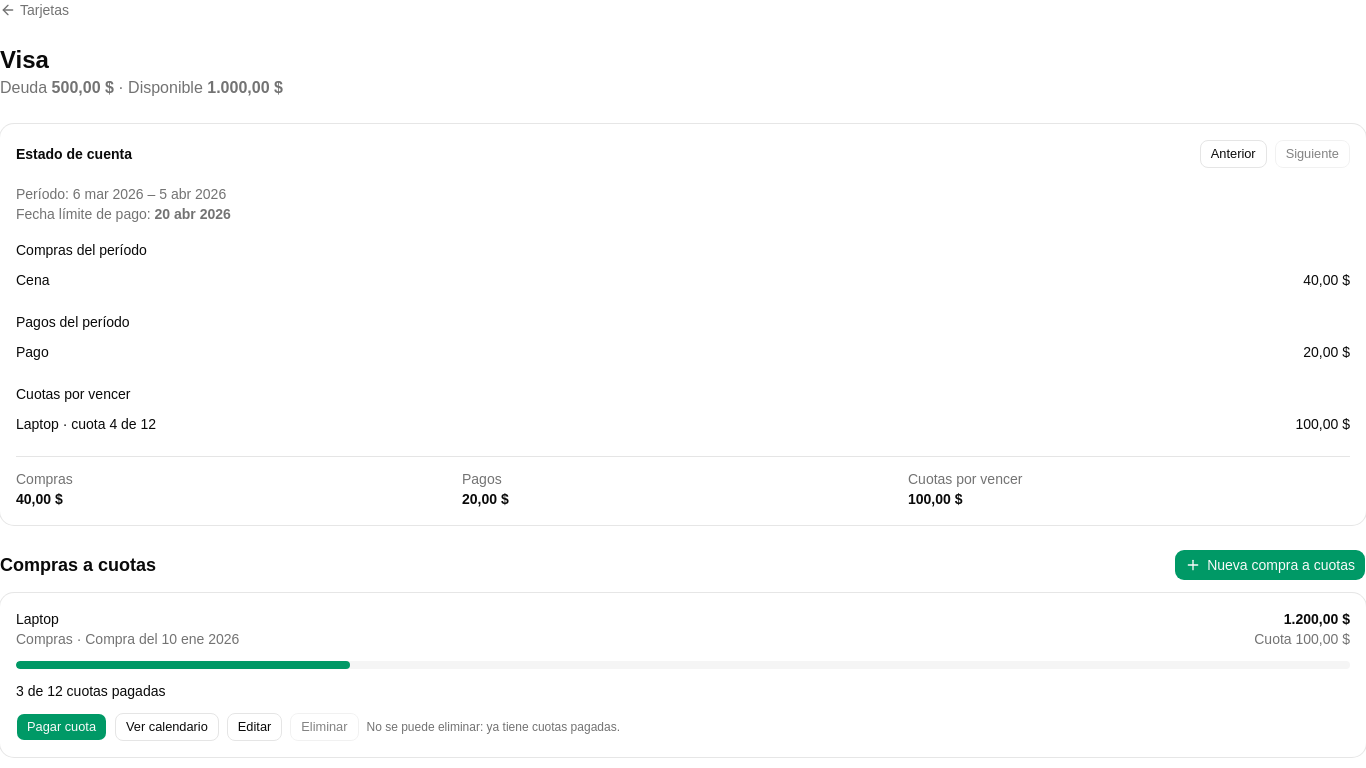
it: CardDetailPage › invalid amount or installments show errors, no request, and the preview does not break
Click the button "Nueva compra a cuotas" at (1270, 565), box [1174, 549, 1365, 581]
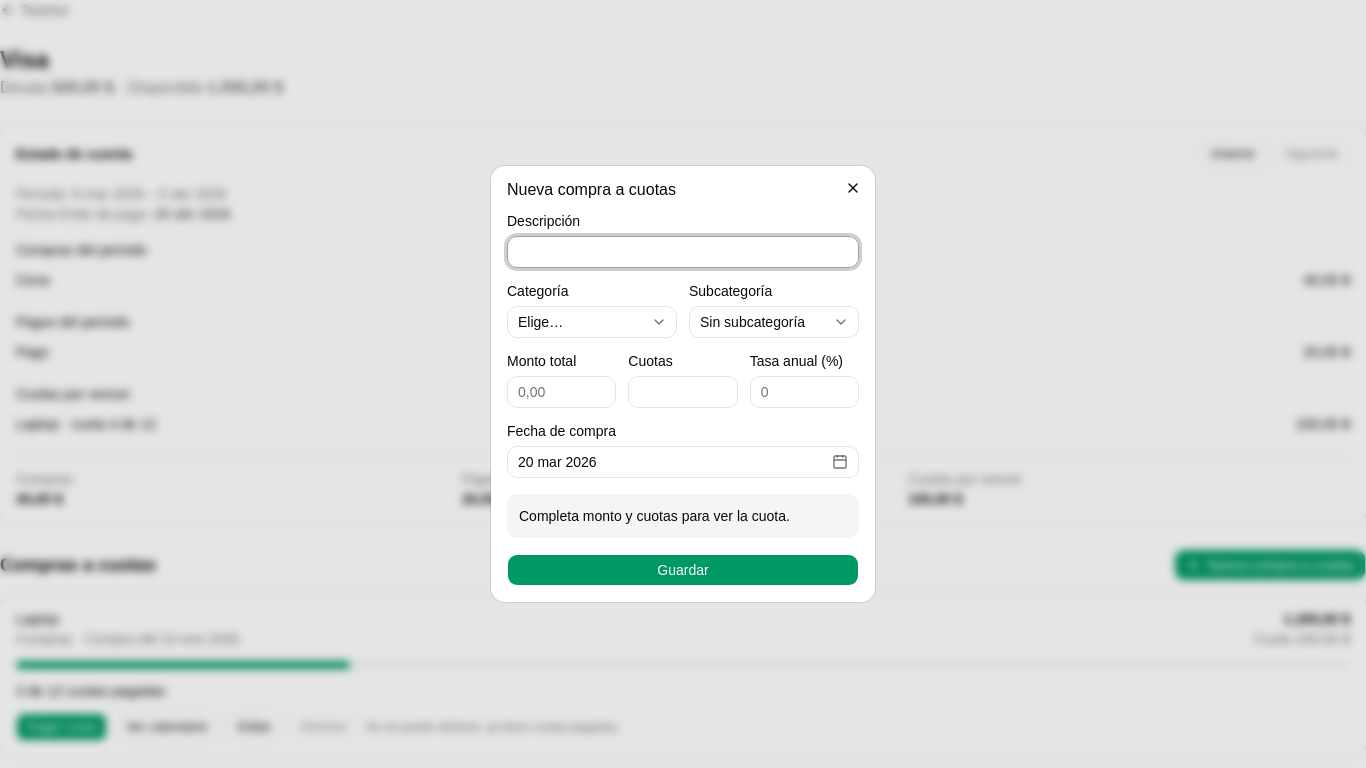
Type "X" into the field labelled "Descripción" at (683, 252), box [507, 236, 859, 268]
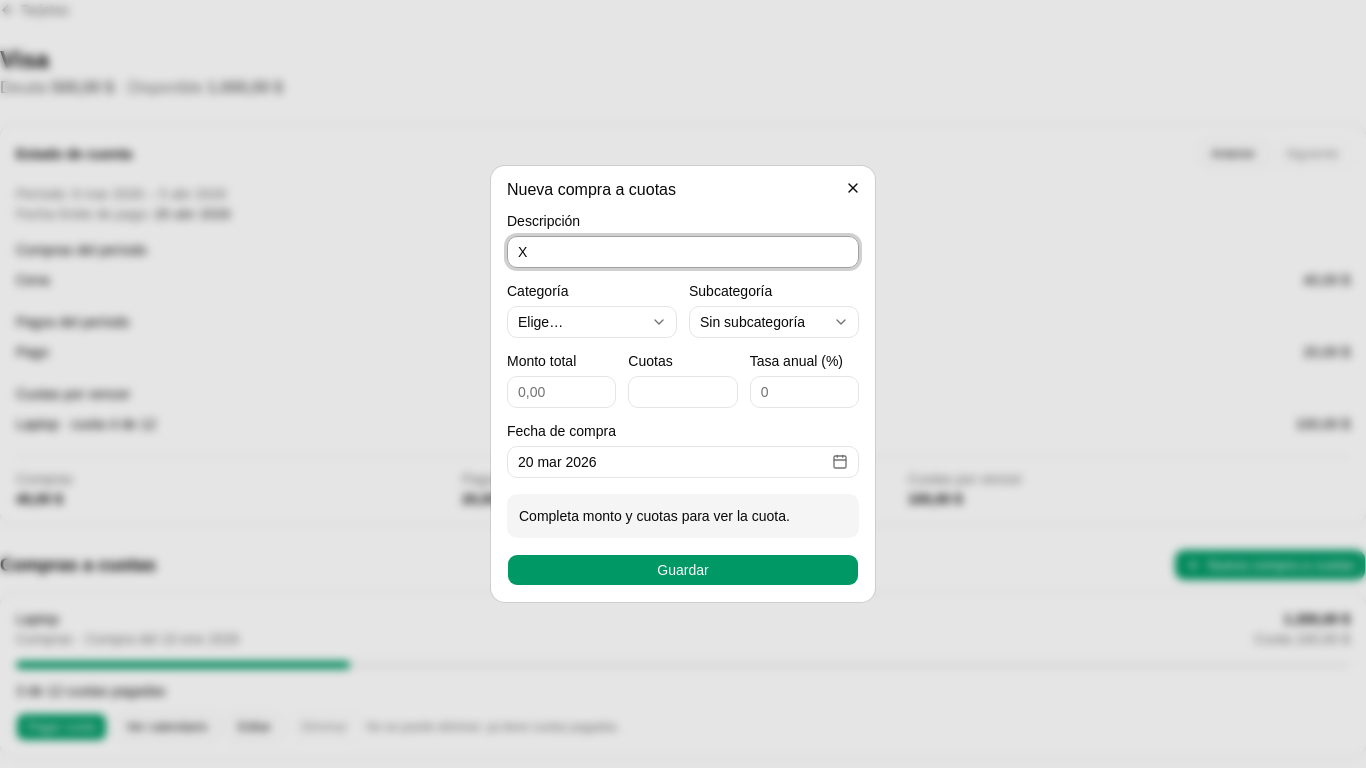
Select "Compras" in the dropdown labelled "Categoría" at (592, 322), box [507, 306, 677, 338]
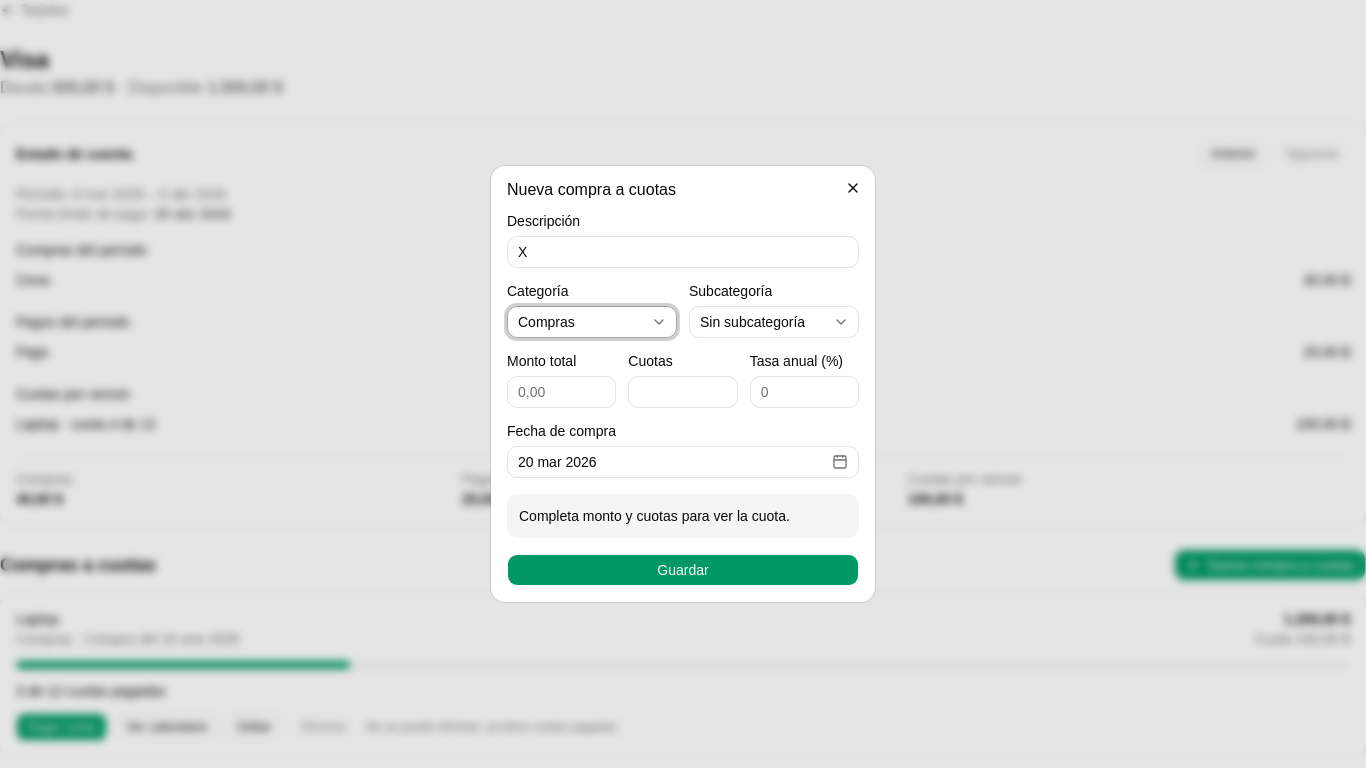
Type "abc" into the field labelled "Monto total" at (562, 392), box [507, 376, 616, 408]
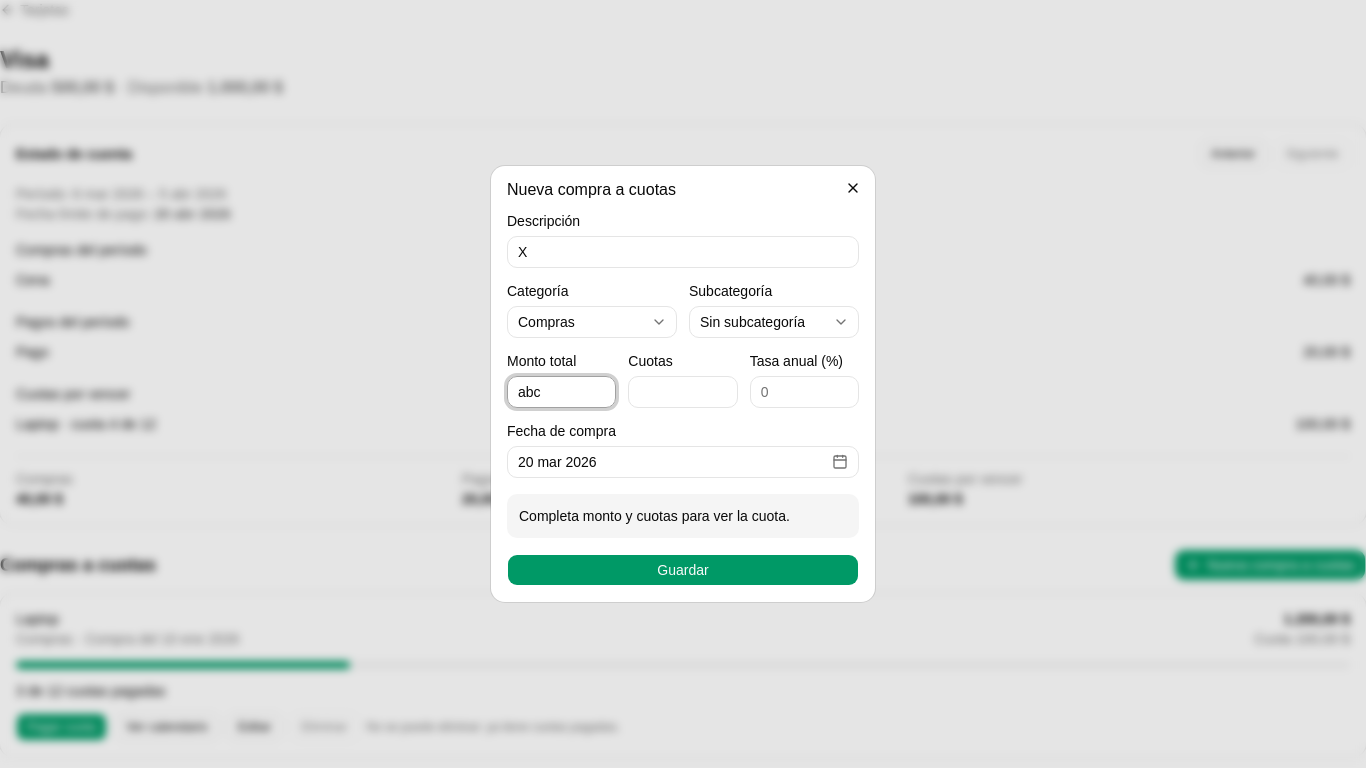
Type "1" into the field labelled "Cuotas" at (683, 392), box [628, 376, 738, 408]
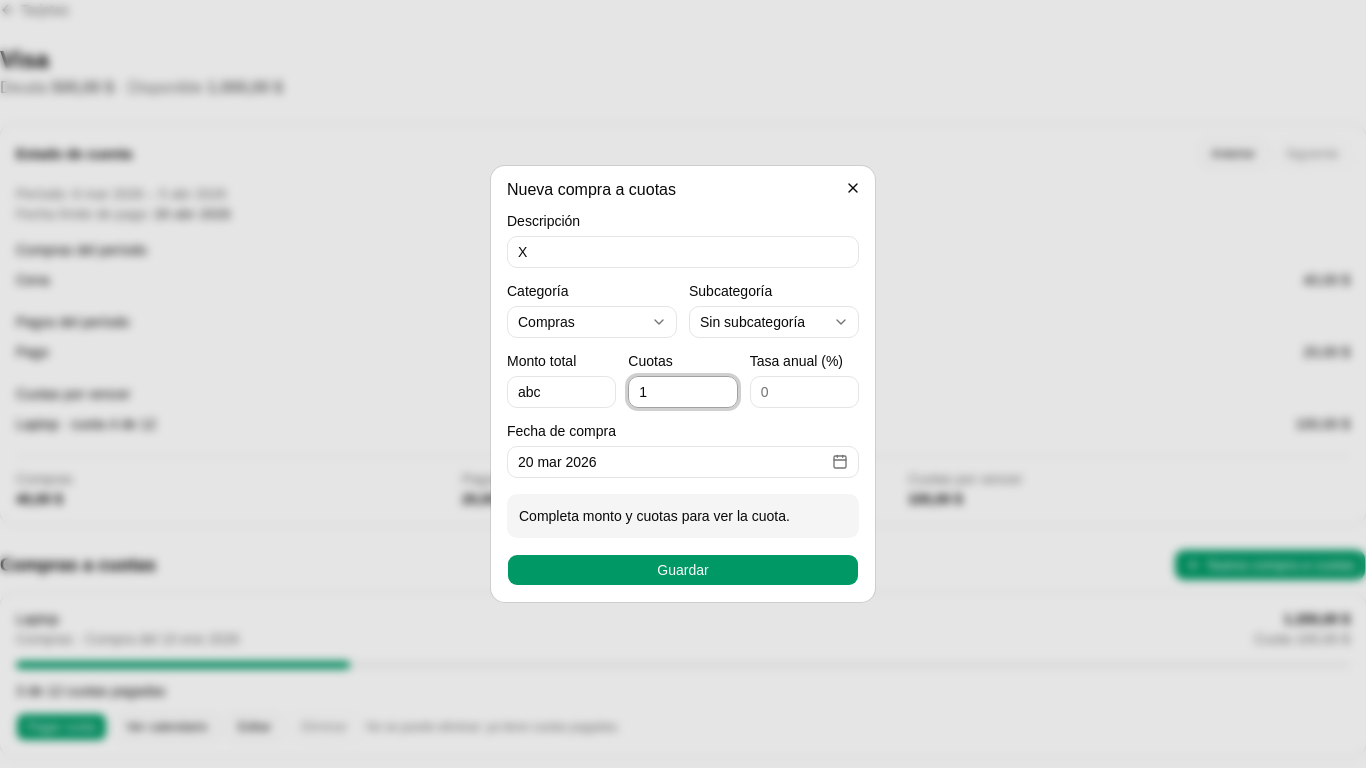
Expected: the text with test id "preview" shows "Completa", [519, 508, 790, 524]
Click the button "Guardar" at (683, 570), box [507, 554, 859, 586]
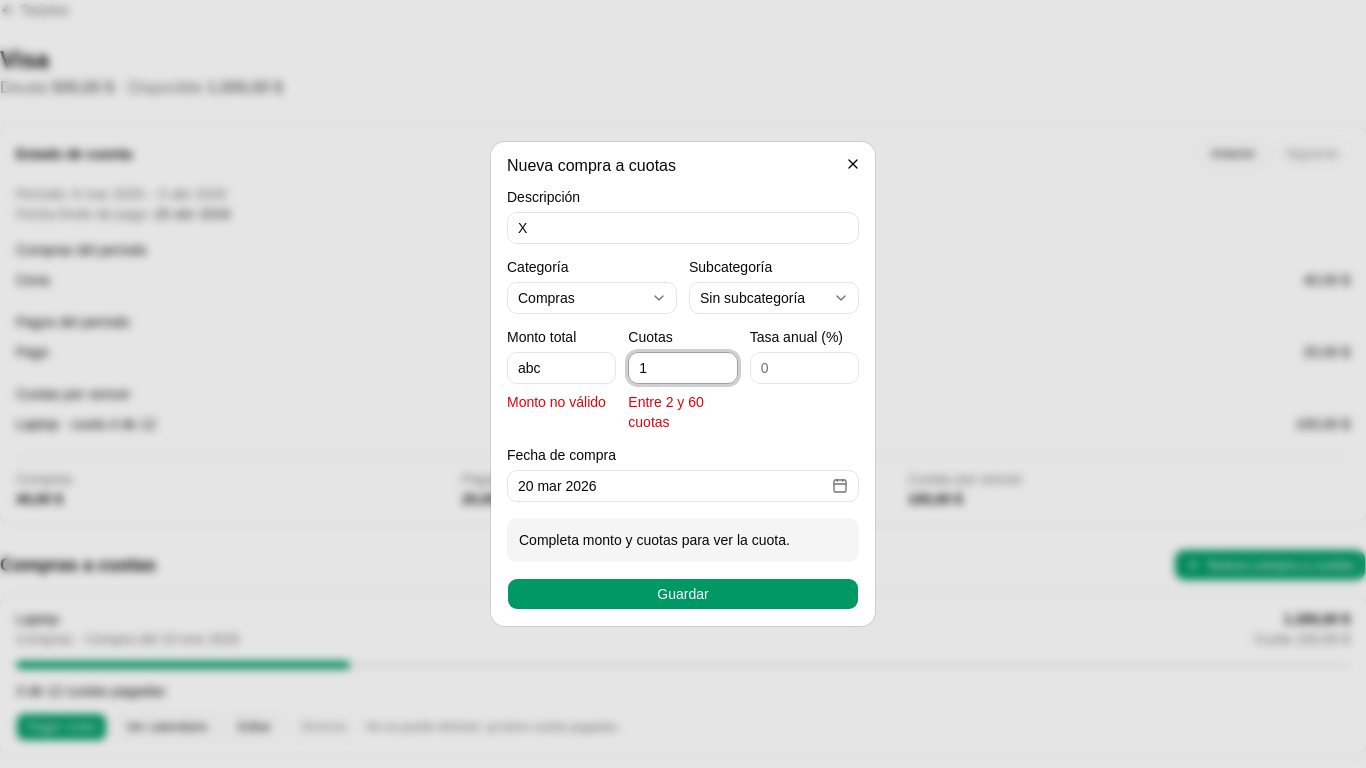
Expected: the text "Monto no válido" is shown, [507, 392, 616, 412]
Expected: the text "Entre 2 y 60 cuotas" is shown, [628, 394, 704, 430]
